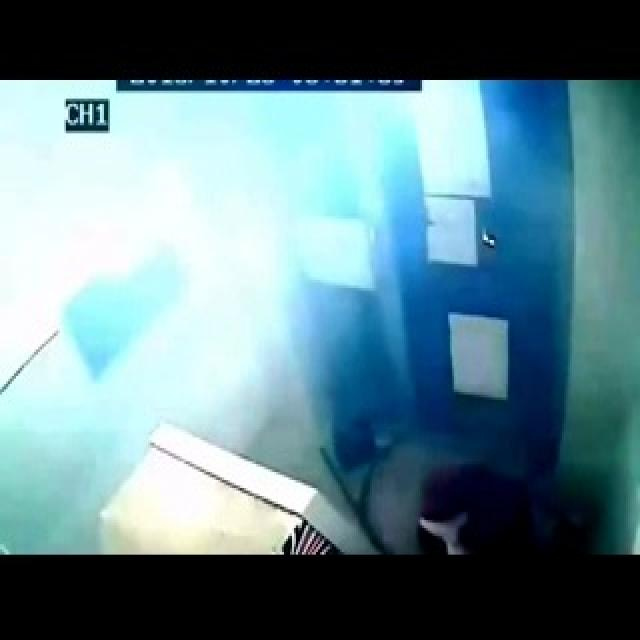thief: (394, 439, 534, 560)
